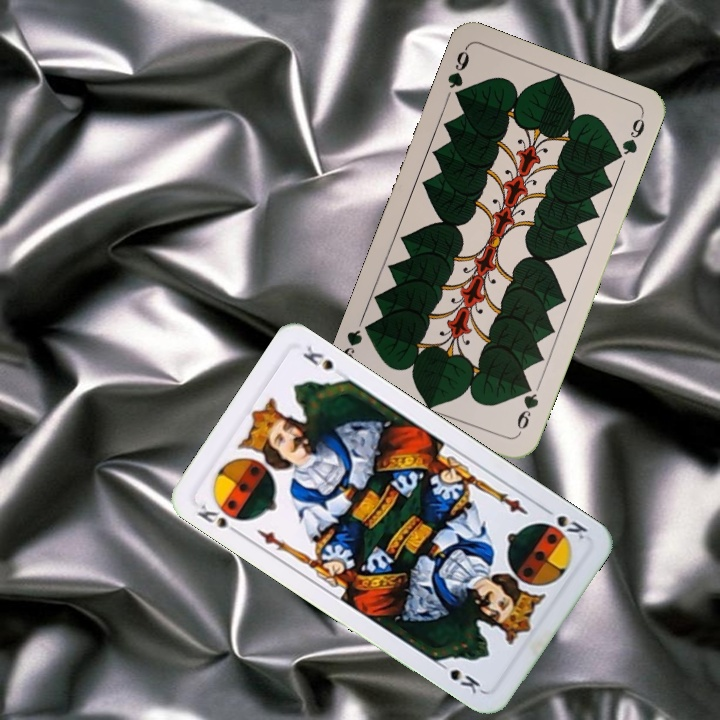G9: (443, 44, 472, 105), (512, 379, 541, 439)
SK: (193, 496, 247, 539), (538, 502, 591, 543)
